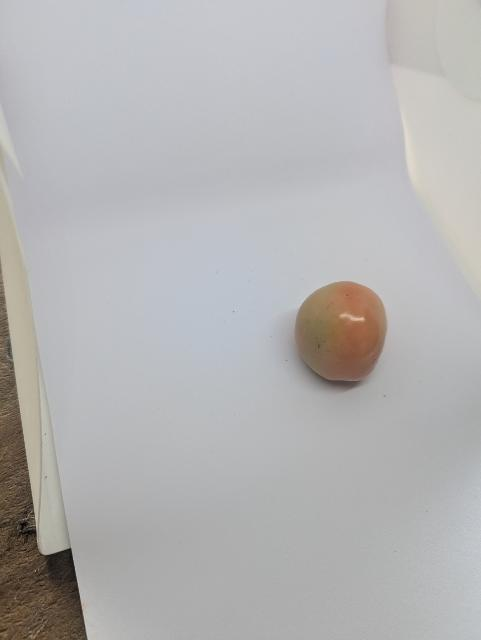turning: (288, 272, 396, 395)
